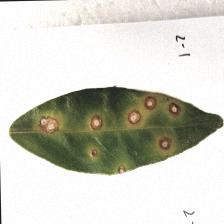canker: (33, 94, 195, 175)
